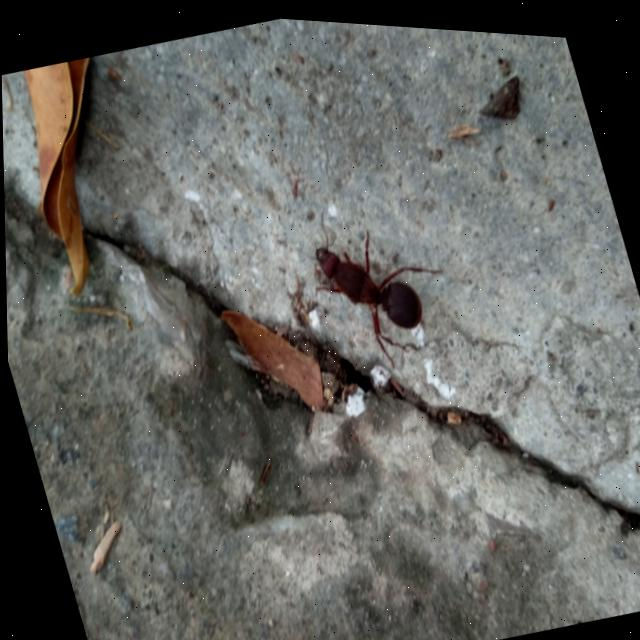Alive-Female-Dealate: (290, 178, 467, 383)
